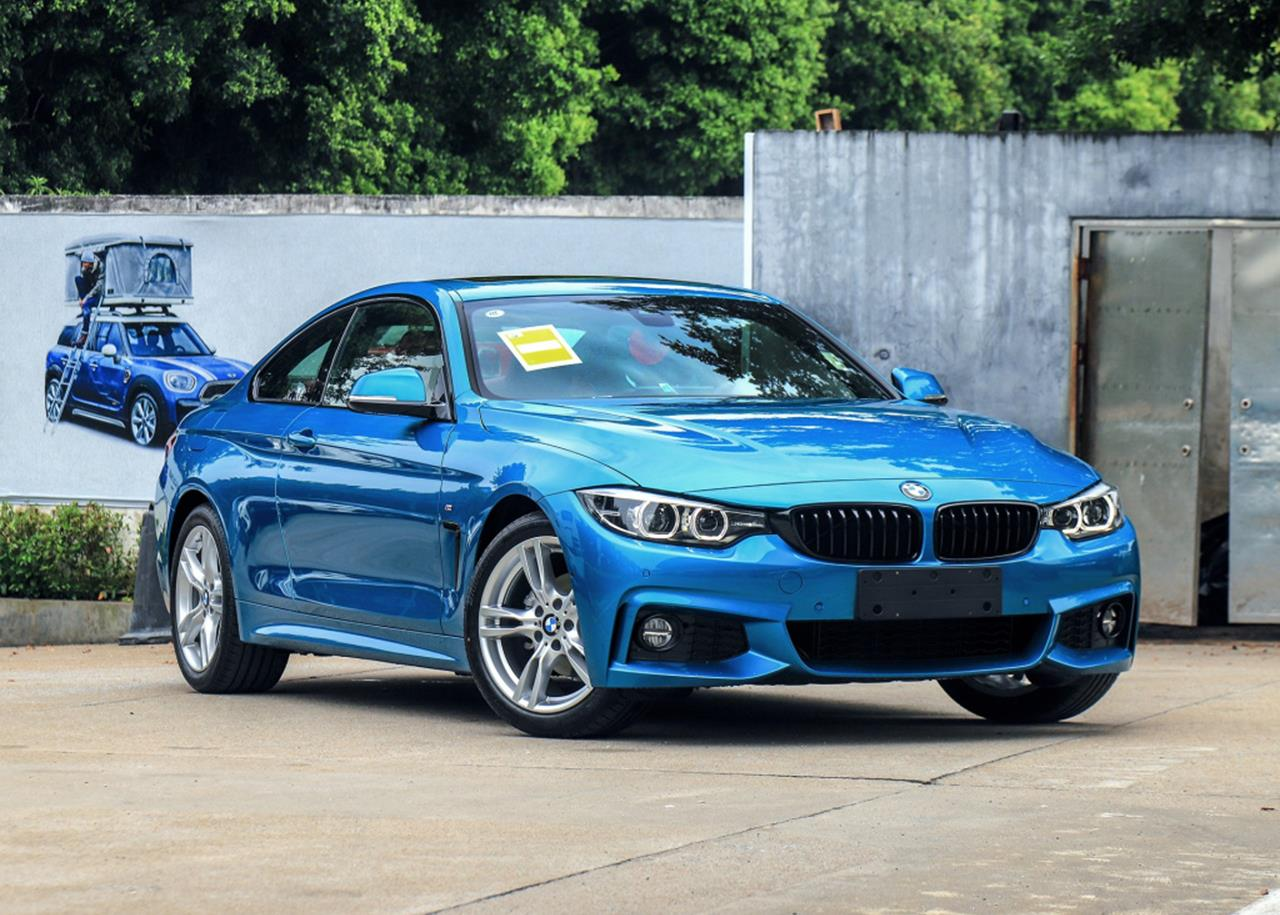blue: (149, 269, 1142, 741), (41, 301, 247, 446)
